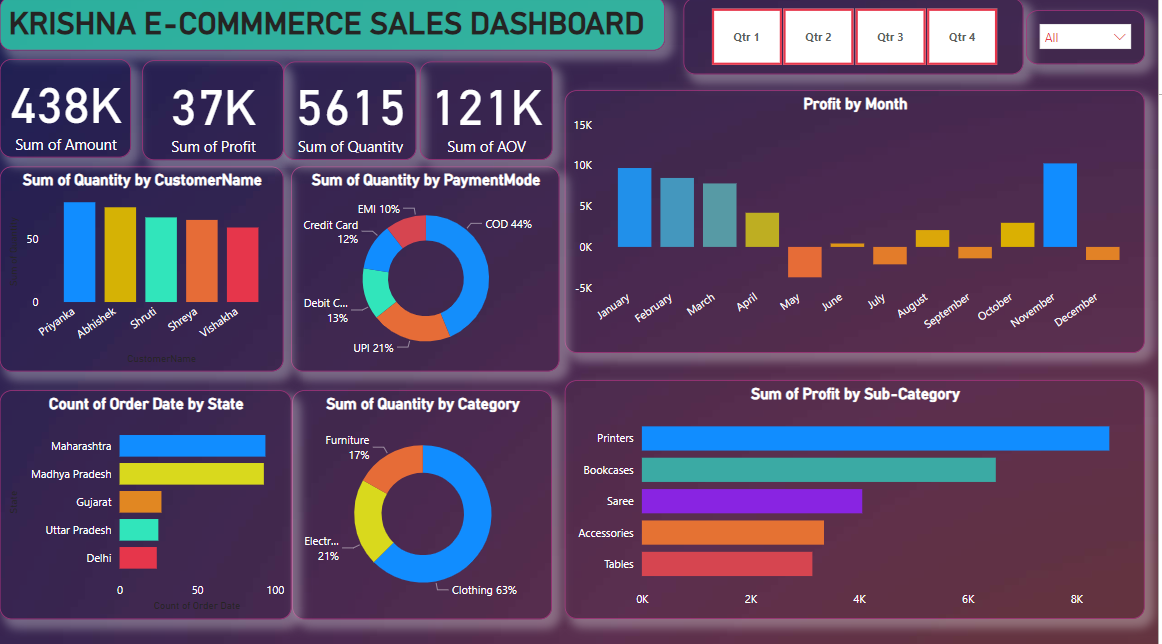

Layout of this report page (visuals, bound fields, positions):
{"tool":"powerbi","page":{"name":"Page 1","canvas":[1280,720],"ordinal":0},"visuals":[{"type":"textbox","box":[9.6,2.7,729.4,59],"z":0},{"type":"columnChart","title":" Profit by Month","fields":{"Category":["Orders.Order Date.Variation.Date Hierarchy.Month"],"Y":["Details.Profit"]},"box":[629.3,105.6,636.2,287.9],"z":1000},{"type":"barChart","fields":{"Category":["Details.Sub-Category"],"Y":["Details.Profit"]},"box":[629.3,423.7,636.2,261.9],"z":2000},{"type":"donutChart","fields":{"Category":["Details.Category"],"Y":["Details.Quantity"]},"box":[330.4,434.6,285.2,250.9],"z":3000},{"type":"donutChart","fields":{"Y":["Details.Quantity"],"Category":["Details.PaymentMode"]},"box":[329.1,189.2,294.8,224.9],"z":4000},{"type":"barChart","fields":{"Category":["Orders.State"],"Y":["Orders.Order Date"]},"box":[10,435,320,251],"z":5000},{"type":"columnChart","fields":{"Y":["Details.Quantity"],"Category":["Orders.CustomerName"]},"box":[9.6,189.2,311.2,224.9],"z":6000},{"type":"card","fields":{"Values":["Details.Amount"]},"box":[9.6,71.3,144,108.3],"z":7000},{"type":"card","fields":{"Values":["Details.Profit"]},"box":[165.9,72.7,154.9,109.7],"z":8000},{"type":"card","fields":{"Values":["Details.Quantity"]},"box":[320.8,74,145.3,108.3],"z":9000},{"type":"card","fields":{"Values":["Details.AOV"]},"box":[470.3,74,145.3,108.3],"z":10000},{"type":"slicer","fields":{"Values":["Orders.Order Date.Variation.Date Hierarchy.Quarter"]},"box":[759.6,4.1,372.9,83.6],"z":11000},{"type":"slicer","fields":{"Values":["Orders.State"]},"box":[1135.2,17.8,130.2,59],"z":12000}]}

Visuals, with their boxes in screenshot pixels (x1, y1, x2, y2), scaled from the page's 1280x720 canvas onto the 1162x644 screenshot:
textbox: (x1=9, y1=2, x2=671, y2=55)
" Profit by Month" columnChart: (x1=571, y1=94, x2=1149, y2=352)
barChart - Details.Sub-Category x Details.Profit: (x1=571, y1=379, x2=1149, y2=613)
donutChart - Details.Category x Details.Quantity: (x1=300, y1=389, x2=559, y2=613)
donutChart - Details.Quantity x Details.PaymentMode: (x1=299, y1=169, x2=566, y2=370)
barChart - Orders.State x Orders.Order Date: (x1=9, y1=389, x2=300, y2=614)
columnChart - Details.Quantity x Orders.CustomerName: (x1=9, y1=169, x2=291, y2=370)
card - Details.Amount: (x1=9, y1=64, x2=139, y2=161)
card - Details.Profit: (x1=151, y1=65, x2=291, y2=163)
card - Details.Quantity: (x1=291, y1=66, x2=423, y2=163)
card - Details.AOV: (x1=427, y1=66, x2=559, y2=163)
slicer - Orders.Order Date.Variation.Date Hierarchy.Quarter: (x1=690, y1=4, x2=1028, y2=78)
slicer - Orders.State: (x1=1031, y1=16, x2=1149, y2=69)
